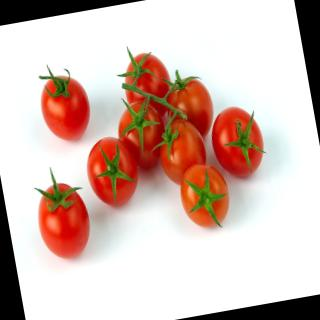Tomat: (30, 163, 97, 265), (35, 58, 97, 146), (114, 42, 178, 124), (147, 111, 213, 190), (207, 102, 271, 182), (82, 133, 144, 211), (113, 93, 172, 174), (159, 66, 219, 145), (177, 160, 236, 234)
